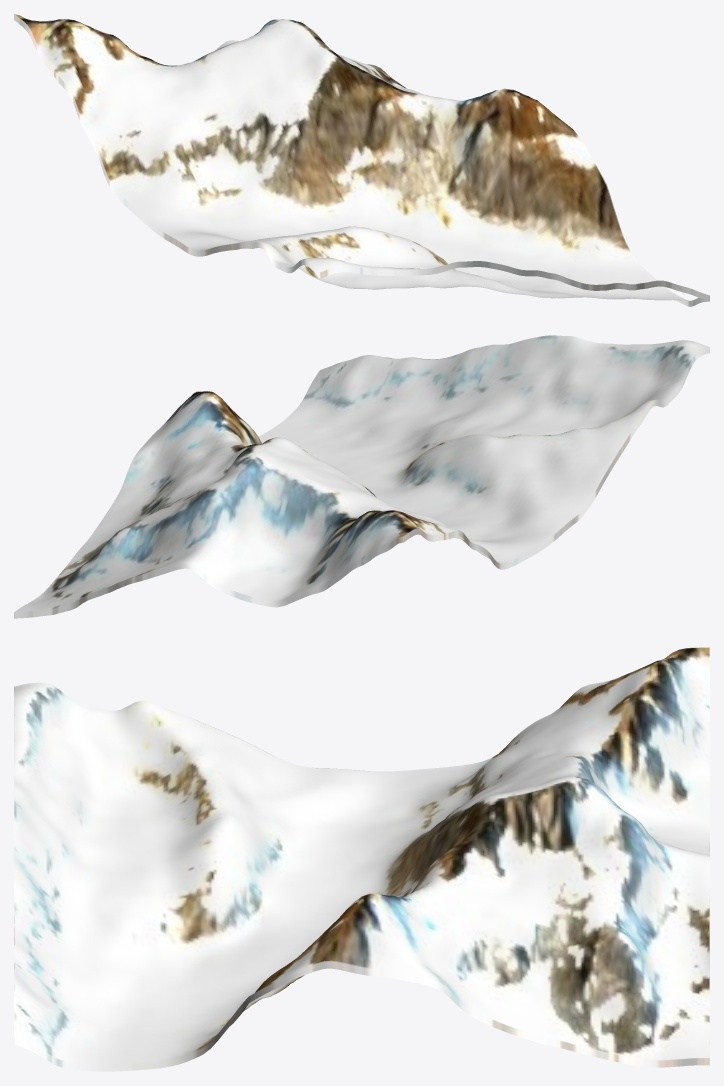
3 views of the same model, one above another, from view 1: azimuth 30°, elevation 25°; view 2: azimuth 150°, elevation 25°; view 3: azimuth 270°, elevation 25° (orthographic). The views are drawn at different scales.
Parts seen in each view (by area): view 1: tile; view 2: tile; view 3: tile.
Boxes of the visible parts, x1,y1,x2,y2 form: tile: [14, 14, 709, 306]; tile: [14, 335, 709, 618]; tile: [14, 647, 709, 1071].
Size of the model in its own units: 2025 by 916 by 2752.
1 material, 1 textured.
